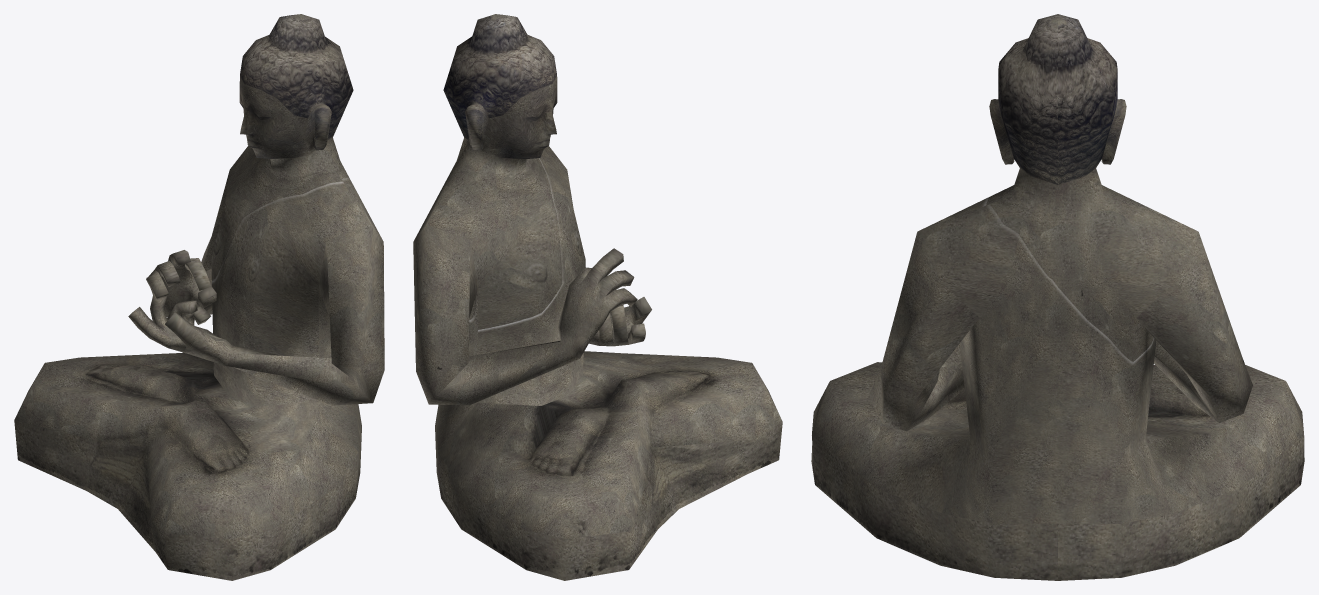
Rendered from Patung_Stupa.FBX.
3 renders of one model, left to right at view 1: azimuth 30°, elevation 25°; view 2: azimuth 150°, elevation 25°; view 3: azimuth 270°, elevation 25°, orthographic. The views are drawn at different scales.
Parts seen in each view (by area): view 1: Patung_Stupa; view 2: Patung_Stupa; view 3: Patung_Stupa.
Part boxes in pixels (left/top/right/bottom): Patung_Stupa: left=14, top=14, right=384, bottom=580; Patung_Stupa: left=413, top=14, right=782, bottom=580; Patung_Stupa: left=811, top=14, right=1304, bottom=580.
Bounding box in the file's own units: 0.7103 × 1.19 × 0.982.
